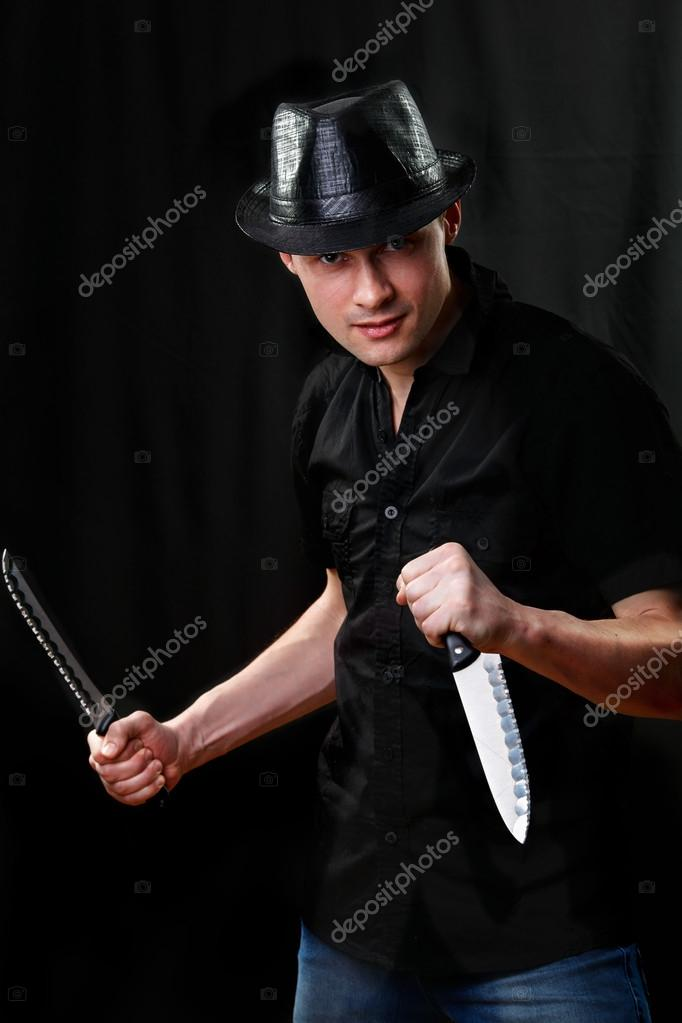knife: (392, 533, 547, 855), (1, 537, 168, 808)
